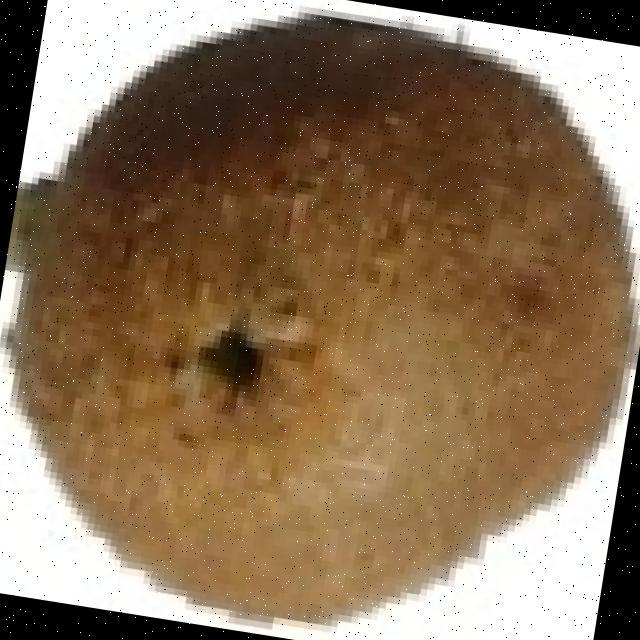kiwi: (8, 19, 635, 625)
